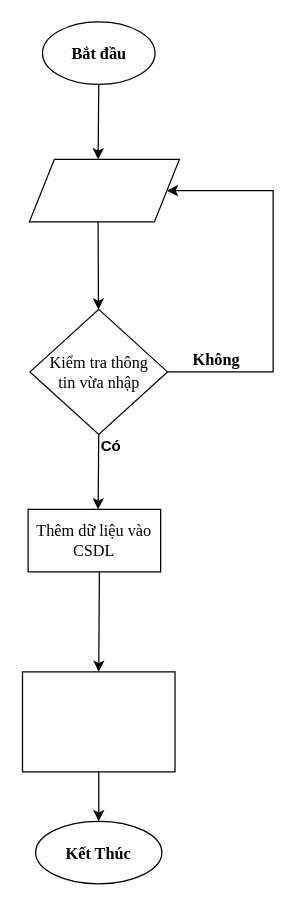
Image size: 305x906. Some labels were removed from this diagram. Here are the shapes that lost their labels. From the top down, the centre of each, then its label:
At point 103,190: "Nhập thông tin phòng ban".
At point 98,721: "Hiển thị thông tin phofngban vừa thêm".
